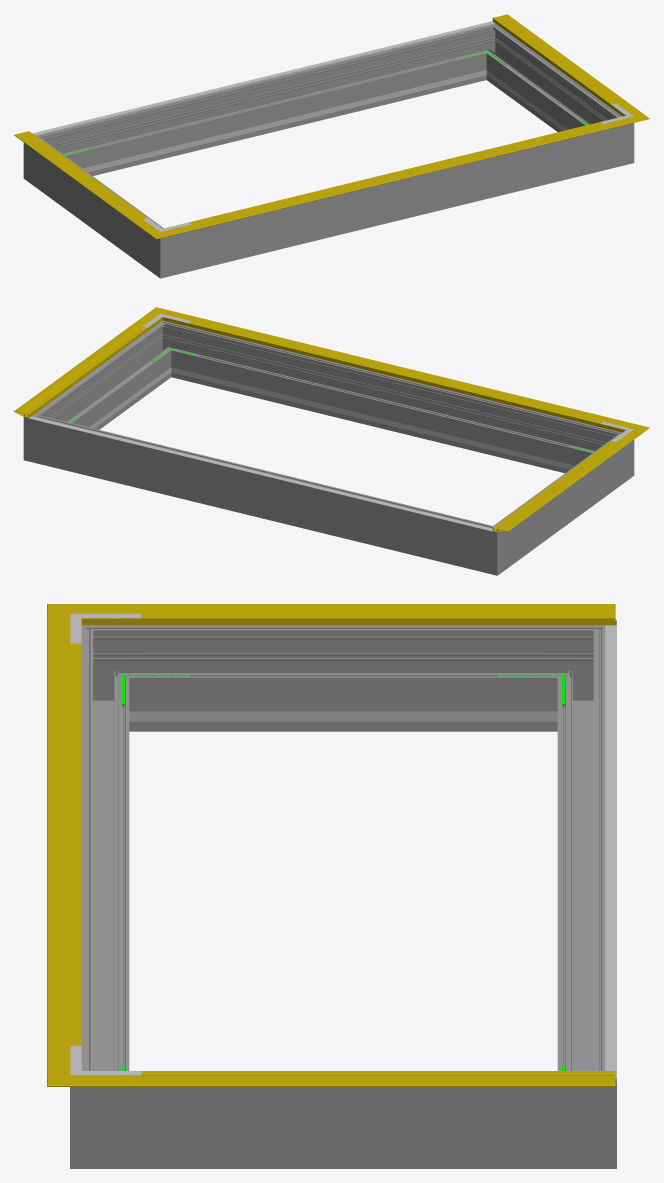
3 renders of one model, top to bottom at view 1: azimuth 30°, elevation 25°; view 2: azimuth 150°, elevation 25°; view 3: azimuth 270°, elevation 25°, orthographic. The views are drawn at different scales.
Parts seen in each view (by area): view 1: 3DGeom-276, 3DGeom-298, 3DGeom-297, 3DGeom-268, 3DGeom-141, 3DGeom-244, 3DGeom-270, 3DGeom-145, 3DGeom-220, 3DGeom-158, 3DGeom-290, 3DGeom-147 (+4 smaller); view 2: 3DGeom-298, 3DGeom-276, 3DGeom-297, 3DGeom-141, 3DGeom-268, 3DGeom-278, 3DGeom-239, 3DGeom-145, 3DGeom-220, 3DGeom-284, 3DGeom-147, 3DGeom-158 (+5 smaller); view 3: 3DGeom-268, 3DGeom-297, 3DGeom-276, 3DGeom-298, 3DGeom-141, 3DGeom-147, 3DGeom-284, 3DGeom-290, 3DGeom-145, 3DGeom-220, 3DGeom-158, 3DGeom-278 (+6 smaller).
Boxes of the visible parts, x1,y1,x2,y2 form: 3DGeom-276: [57, 29, 481, 175]; 3DGeom-298: [191, 130, 603, 270]; 3DGeom-297: [489, 34, 611, 131]; 3DGeom-268: [41, 146, 151, 265]; 3DGeom-141: [181, 121, 618, 231]; 3DGeom-244: [94, 77, 456, 170]; 3DGeom-270: [142, 220, 191, 278]; 3DGeom-145: [492, 14, 631, 111]; 3DGeom-220: [32, 21, 494, 135]; 3DGeom-158: [189, 122, 602, 224]; 3DGeom-290: [603, 108, 634, 170]; 3DGeom-147: [14, 132, 147, 225]; 3DGeom-298: [176, 327, 600, 473]; 3DGeom-276: [54, 420, 472, 568]; 3DGeom-297: [46, 331, 168, 429]; 3DGeom-141: [178, 314, 618, 429]; 3DGeom-268: [505, 443, 616, 562]; 3DGeom-278: [466, 517, 515, 575]; 3DGeom-239: [201, 374, 563, 467]; 3DGeom-145: [14, 320, 153, 417]; 3DGeom-220: [28, 416, 492, 531]; 3DGeom-284: [23, 405, 59, 467]; 3DGeom-147: [492, 438, 631, 532]; 3DGeom-158: [189, 321, 602, 423]; 3DGeom-268: [141, 625, 545, 731]; 3DGeom-297: [141, 1087, 545, 1168]; 3DGeom-276: [557, 650, 605, 1070]; 3DGeom-298: [81, 650, 129, 1070]; 3DGeom-141: [47, 634, 70, 1055]; 3DGeom-147: [118, 604, 615, 625]; 3DGeom-284: [545, 1052, 616, 1168]; 3DGeom-290: [70, 1052, 141, 1168]; 3DGeom-145: [118, 1076, 615, 1086]; 3DGeom-220: [605, 625, 616, 1078]; 3DGeom-158: [70, 643, 81, 1045]; 3DGeom-278: [545, 620, 616, 731].
Size of the model in its own units: 2.44 by 0.2195 by 1.22.
